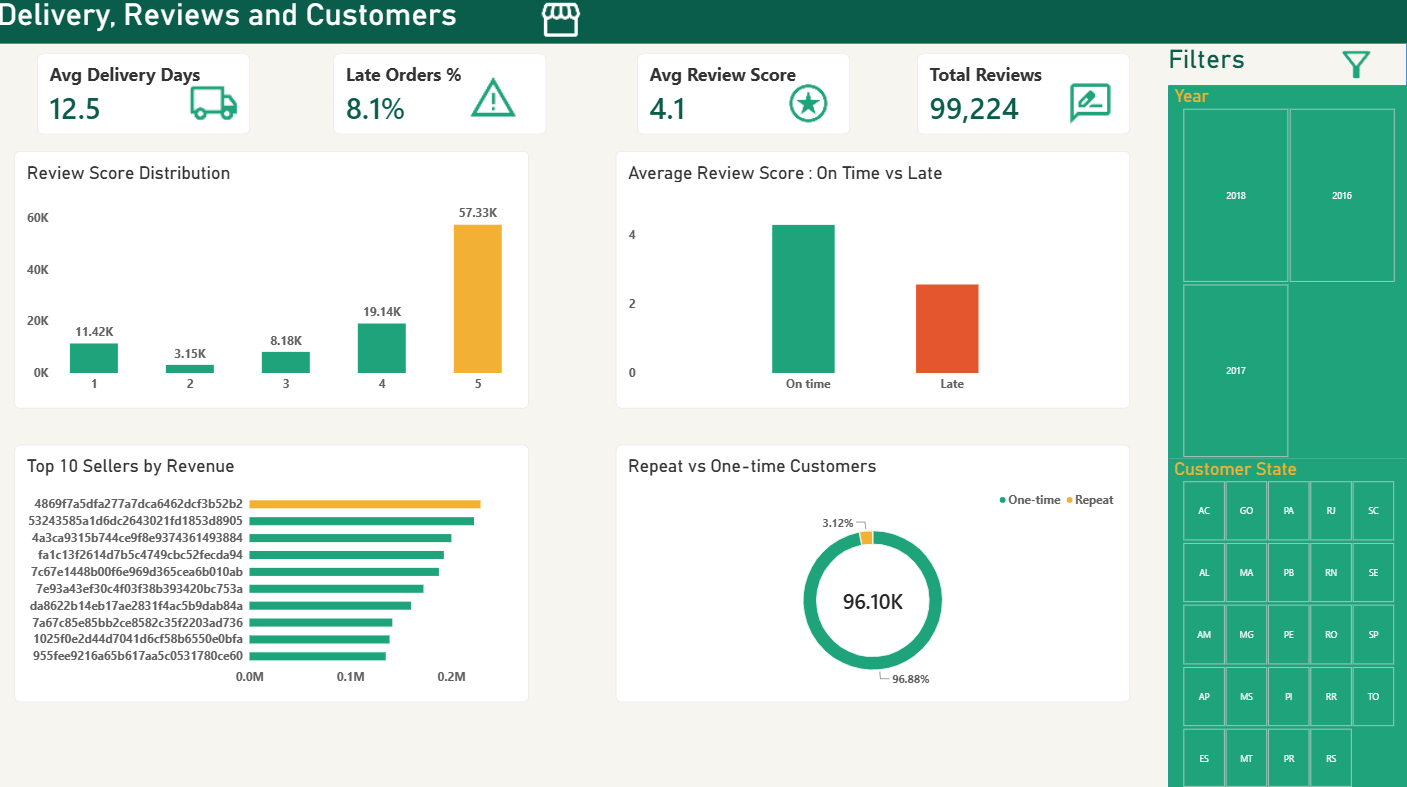

The dashboard page shown, as its layout file describes it:
{"tool":"powerbi","page":{"name":"Page 2","canvas":[1920,1080],"ordinal":1},"visuals":[{"type":"shape","title":"Delivery, Reviews and Customers","box":[0,0,1920.4,1080.6],"z":0},{"type":"cardVisual","fields":{"Data":["orders.Avg Delivery Days"]},"box":[54.4,78.3,290,110],"z":1000},{"type":"image","box":[260.3,103.8,70,84.4],"z":2000},{"type":"cardVisual","fields":{"Data":["orders.Late Orders %"]},"box":[457.7,78.3,290,110],"z":3000},{"type":"image","box":[641.4,103.8,67.9,70],"z":4000},{"type":"cardVisual","fields":{"Data":["order_reviews.Avg Review Score"]},"box":[871.1,78.3,290,110],"z":5000},{"type":"image","box":[1073.5,108.9,61.7,74.1],"z":6000},{"type":"clusteredColumnChart","title":"Review Score Distribution","fields":{"Category":["order_reviews.review_score"],"Y":["CountNonNull(order_reviews.order_id)"]},"box":[23.8,211,700,350],"z":7000},{"type":"clusteredColumnChart","title":"Average Review Score : On Time vs Late","fields":{"Category":["orders.Delivery Status"],"Y":["order_reviews.Avg Review Score"]},"box":[842.2,211,700,350],"z":8000},{"type":"donutChart","title":"Repeat vs One-time Customers","fields":{"Category":["customers.Customer Type"],"Y":["Count(customers.customer_unique_id)"]},"box":[842.4,610.5,700,350],"z":9000},{"type":"clusteredBarChart","title":"Top 10 Sellers by Revenue","fields":{"Category":["sellers.seller_id"],"Y":["order_items.Item Revenue"]},"box":[23.8,610.8,700,350],"z":10000},{"type":"image","box":[736.7,0,61.2,64.7],"z":13000},{"type":"shape","title":"Filters","box":[1594,64.8,326.7,1015.7],"z":14000},{"type":"image","box":[1822.1,64.7,56.1,57.8],"z":15000},{"type":"slicer","fields":{"Values":["customers.customer_state"]},"box":[1594.2,629.7,326.2,450],"z":15250},{"type":"slicer","fields":{"Values":["Calender.Year"]},"box":[1594.1,122.5,326.7,507],"z":16000},{"type":"cardVisual","fields":{"Data":["order_reviews.Review Counts"]},"box":[1252.2,78.3,290,110],"z":16004},{"type":"image","box":[1434.2,114,108,65.2],"z":16005}]}

Visuals, with their boxes in screenshot pixels (x1, y1, x2, y2), scaled from the page's 1920x1080 canvas onto the 1407x787 screenshot:
"Delivery, Reviews and Customers" shape: (0, 0, 1406, 786)
cardVisual - orders.Avg Delivery Days: (40, 57, 252, 137)
image: (191, 76, 242, 137)
cardVisual - orders.Late Orders %: (335, 57, 548, 137)
image: (470, 76, 520, 127)
cardVisual - order_reviews.Avg Review Score: (638, 57, 851, 137)
image: (787, 79, 832, 133)
"Review Score Distribution" clusteredColumnChart: (17, 154, 530, 409)
"Average Review Score : On Time vs Late" clusteredColumnChart: (617, 154, 1130, 409)
"Repeat vs One-time Customers" donutChart: (617, 445, 1130, 700)
"Top 10 Sellers by Revenue" clusteredBarChart: (17, 445, 530, 700)
image: (540, 0, 585, 47)
"Filters" shape: (1168, 47, 1406, 786)
image: (1335, 47, 1376, 89)
slicer - customers.customer_state: (1168, 459, 1406, 786)
slicer - Calender.Year: (1168, 89, 1406, 459)
cardVisual - order_reviews.Review Counts: (918, 57, 1130, 137)
image: (1051, 83, 1130, 131)
